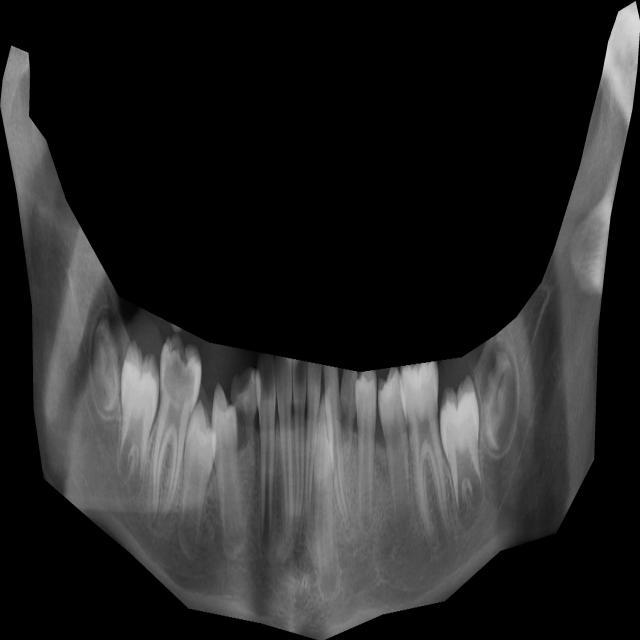mandibula: (0, 1, 640, 640)
